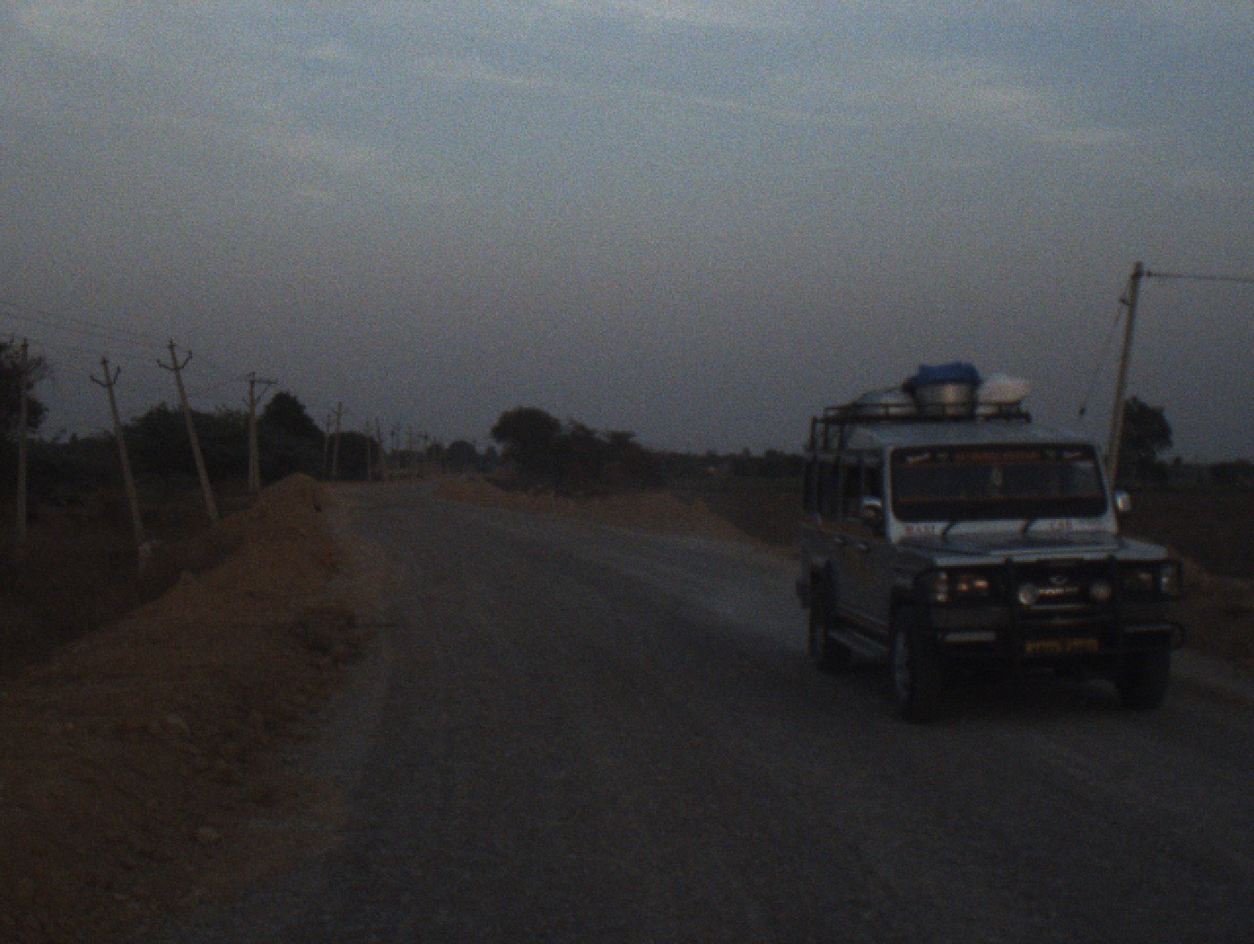car: (795, 357, 1196, 728)
